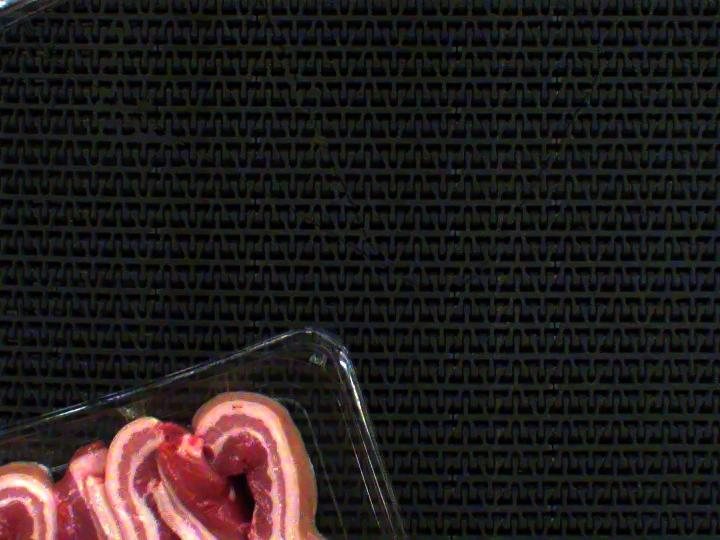packaging-error: (112, 401, 157, 423)
